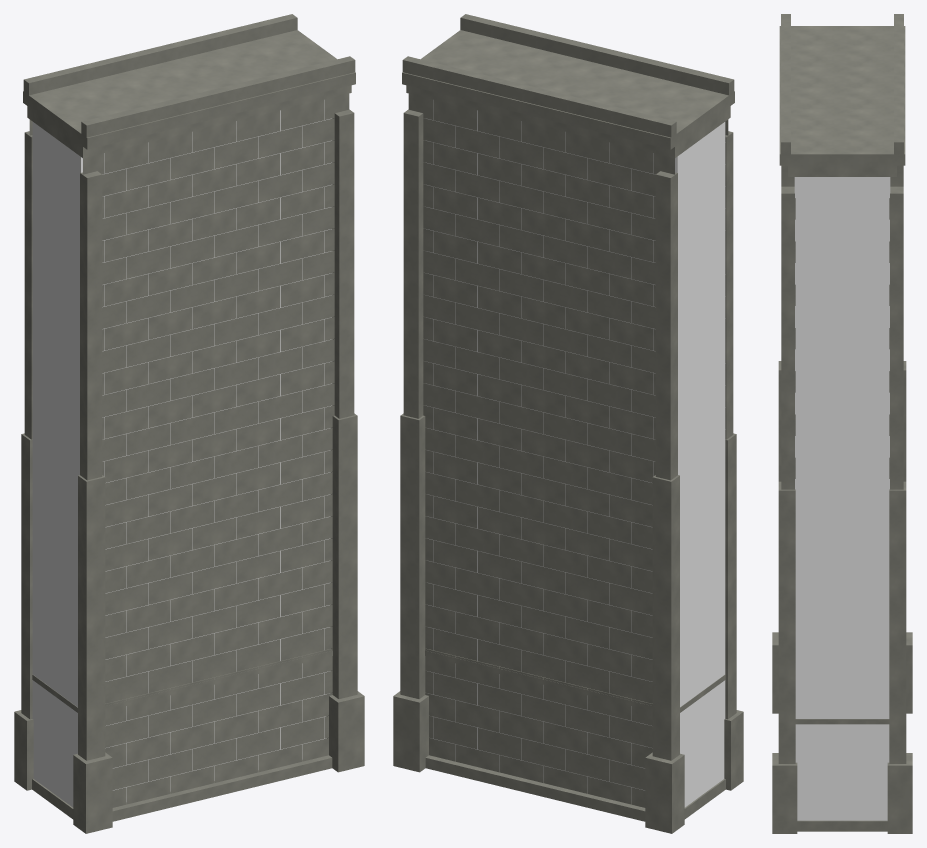
Rendered from GF2_Wall_Straight_24x60_LOD2.fbx.
The picture shows the model from 3 angles, left to right: view 1: azimuth 30°, elevation 25°; view 2: azimuth 150°, elevation 25°; view 3: azimuth 270°, elevation 25°; orthographic projection. The views are drawn at different scales.
Parts seen in each view (by area): view 1: GF2_Wall_Straight_24x60_LOD2; view 2: GF2_Wall_Straight_24x60_LOD2; view 3: GF2_Wall_Straight_24x60_LOD2.
Boxes of the visible parts, x1=… form: GF2_Wall_Straight_24x60_LOD2: x1=14, y1=14, x2=364, y2=833; GF2_Wall_Straight_24x60_LOD2: x1=393, y1=14, x2=743, y2=833; GF2_Wall_Straight_24x60_LOD2: x1=772, y1=14, x2=912, y2=833.
Bounding box in the file's own units: 25.1 × 60.55 × 11.2.
